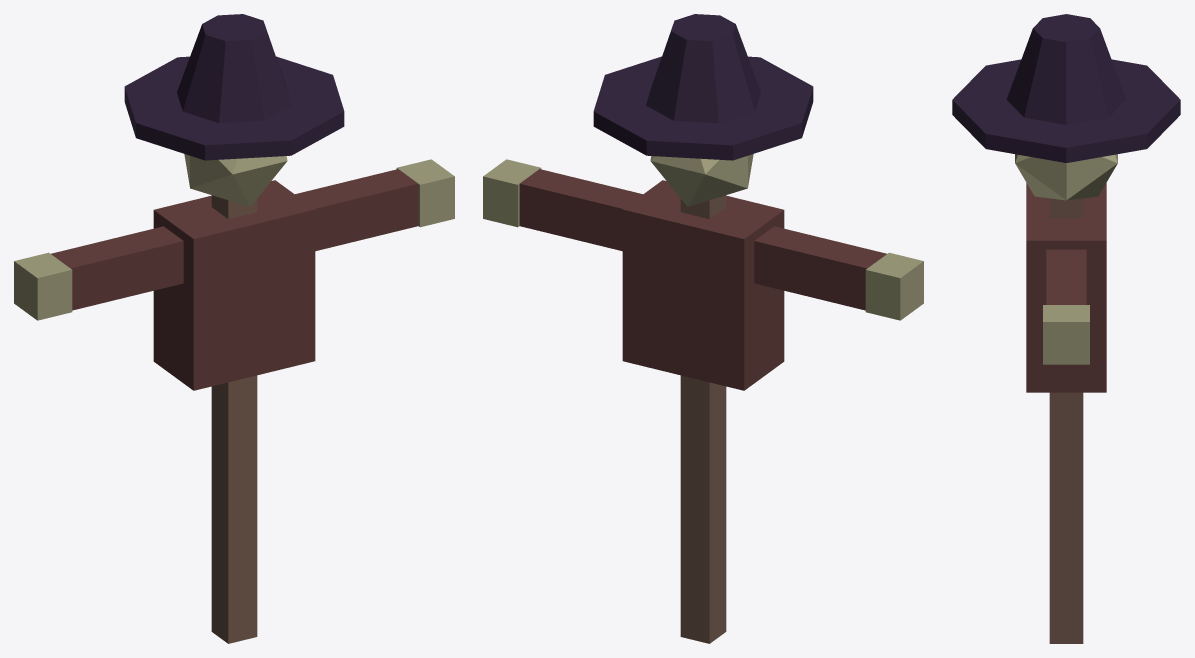
Rendered from scarecrow.glb.
The picture shows the model from 3 angles, left to right: view 1: azimuth 30°, elevation 25°; view 2: azimuth 150°, elevation 25°; view 3: azimuth 270°, elevation 25°; orthographic projection.
Visible parts, largest first — view 1: Shirt, Arms, Post, Brim, Crown, Head, HandL, HandR; view 2: Shirt, Arms, Post, Brim, Crown, Head, HandL, HandR; view 3: Brim, Shirt, Crown, Post, Head, HandR, Arms.
Part boxes in pixels (bbox=[...]): Shirt: bbox=[153, 180, 315, 390]; Arms: bbox=[51, 169, 418, 310]; Post: bbox=[211, 195, 257, 643]; Brim: bbox=[124, 56, 344, 160]; Crown: bbox=[177, 14, 291, 123]; Head: bbox=[184, 154, 287, 206]; HandL: bbox=[14, 252, 72, 320]; HandR: bbox=[396, 159, 454, 227]; Shirt: bbox=[622, 180, 784, 390]; Arms: bbox=[519, 169, 886, 310]; Post: bbox=[680, 195, 726, 643]; Brim: bbox=[593, 56, 813, 160]; Crown: bbox=[646, 14, 760, 123]; Head: bbox=[650, 154, 753, 206]; HandL: bbox=[865, 252, 923, 320]; HandR: bbox=[483, 159, 541, 227]; Brim: bbox=[952, 59, 1180, 162]; Shirt: bbox=[1026, 183, 1106, 392]; Crown: bbox=[1006, 14, 1126, 124]; Post: bbox=[1049, 198, 1083, 643]; Head: bbox=[1015, 154, 1117, 200]; HandR: bbox=[1043, 305, 1089, 364]; Arms: bbox=[1046, 249, 1086, 304].
Size of the model in its own units: 1.44 by 2 by 0.68.
